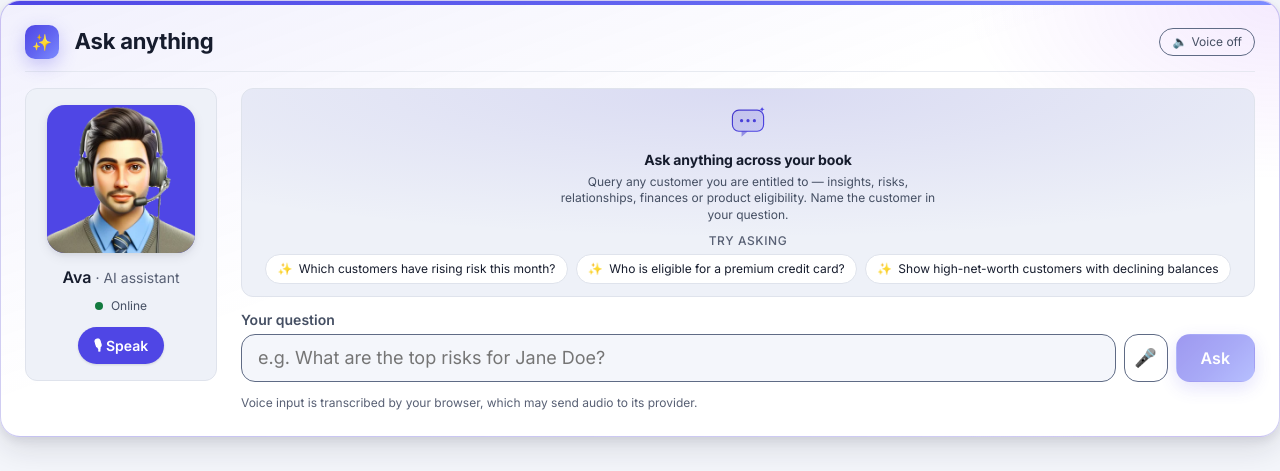
Test: ask-anything panel (14.5) › posts to the cross-customer /ask endpoint when no customer is selected (9.6)
Type "Who is Jane Doe?" into the field labelled "Your question" at (678, 358), box [241,334,1116,382]
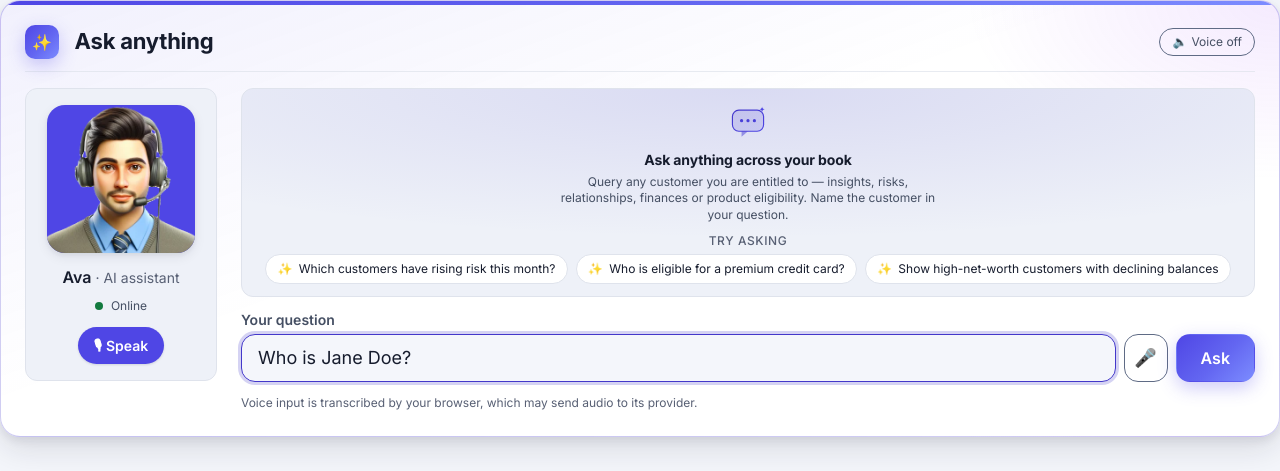
Click the button "Ask" at (1215, 358), box [1176,334,1255,382]
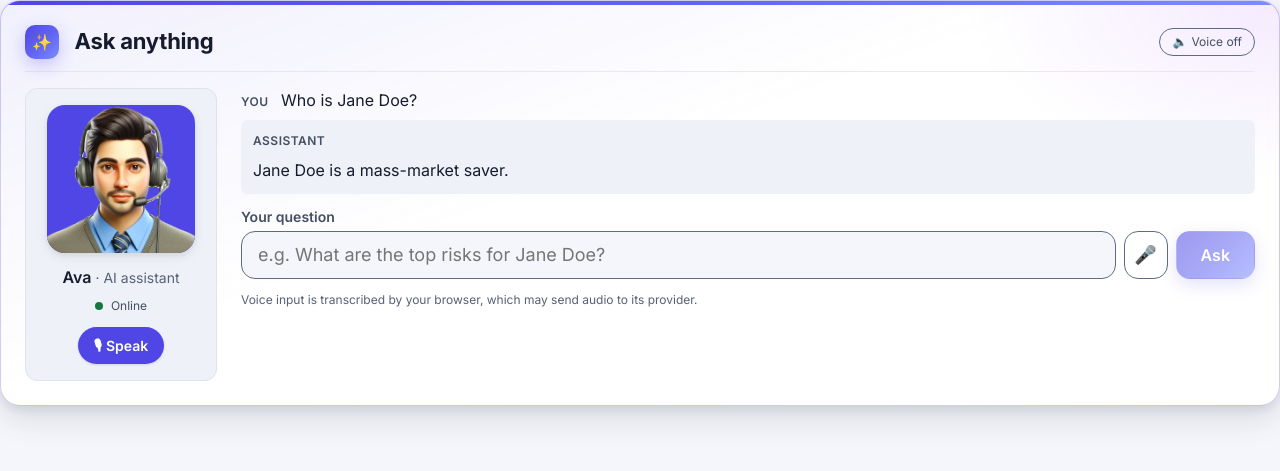
Now the text "Jane Doe is a mass-market saver." is shown, box [253,160,508,180]
